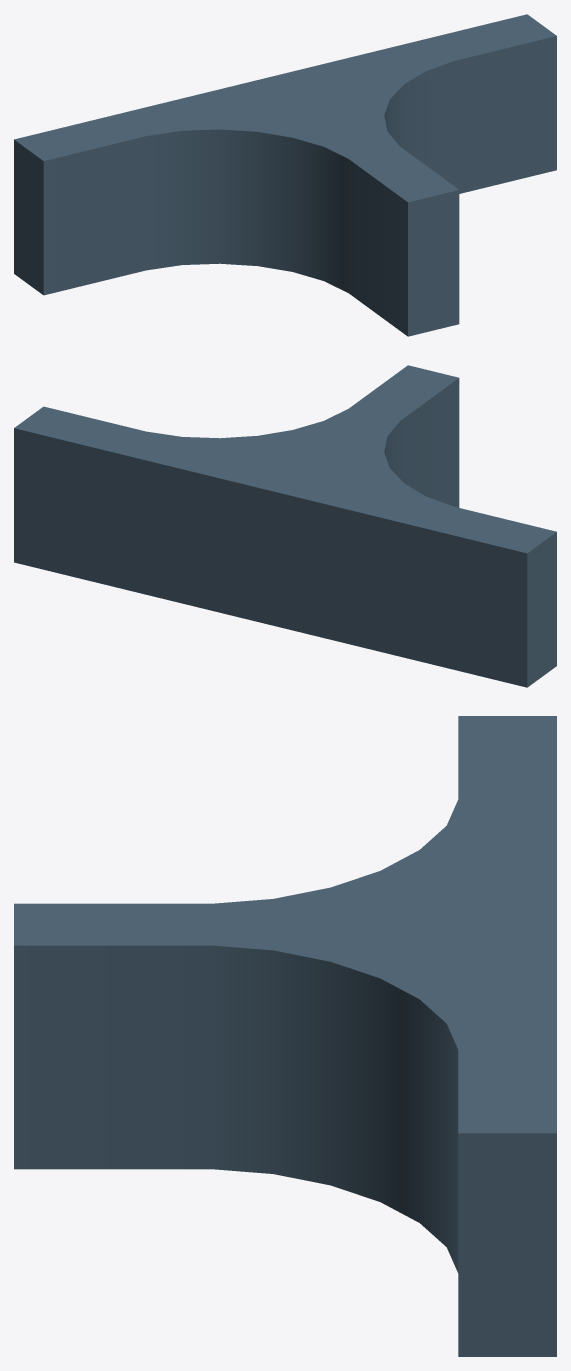
Rendered from W1_WallCorner_Round1C_Top.fbx.
The picture shows the model from 3 angles, top to bottom: view 1: azimuth 30°, elevation 25°; view 2: azimuth 150°, elevation 25°; view 3: azimuth 270°, elevation 25°; orthographic projection. The views are drawn at different scales.
Parts seen in each view (by area): view 1: W1_WallCorner_Round1C_Top.001; view 2: W1_WallCorner_Round1C_Top.001; view 3: W1_WallCorner_Round1C_Top.001.
Part boxes in pixels (x1,y1,x2,y2): W1_WallCorner_Round1C_Top.001: [14, 14, 556, 336]; W1_WallCorner_Round1C_Top.001: [14, 365, 556, 687]; W1_WallCorner_Round1C_Top.001: [14, 716, 556, 1356].
Bounding box in the file's own units: 2 × 0.5 × 1.1.
